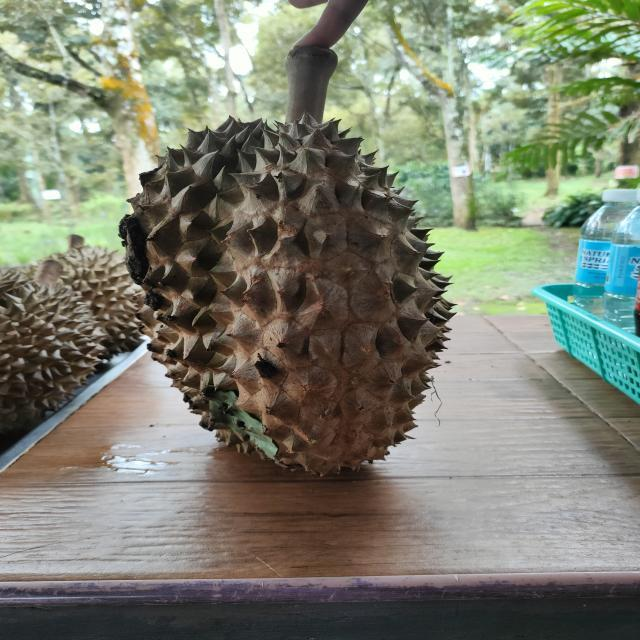mature: (120, 115, 453, 475)
